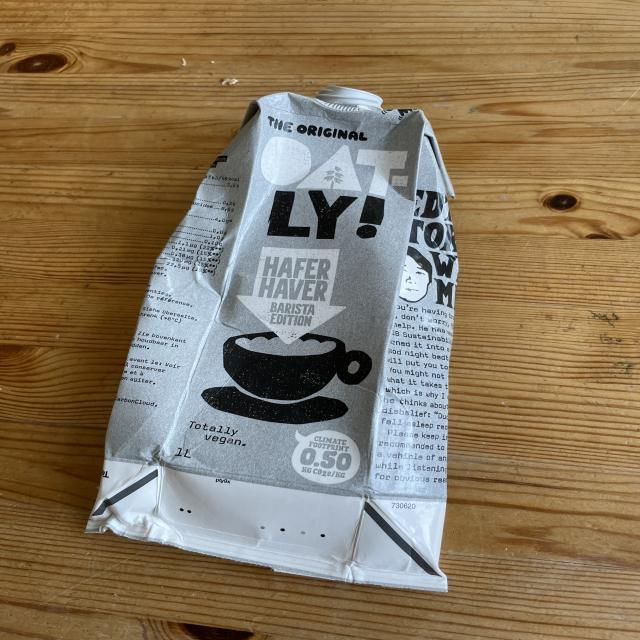non_white_jug: (88, 84, 470, 589)
